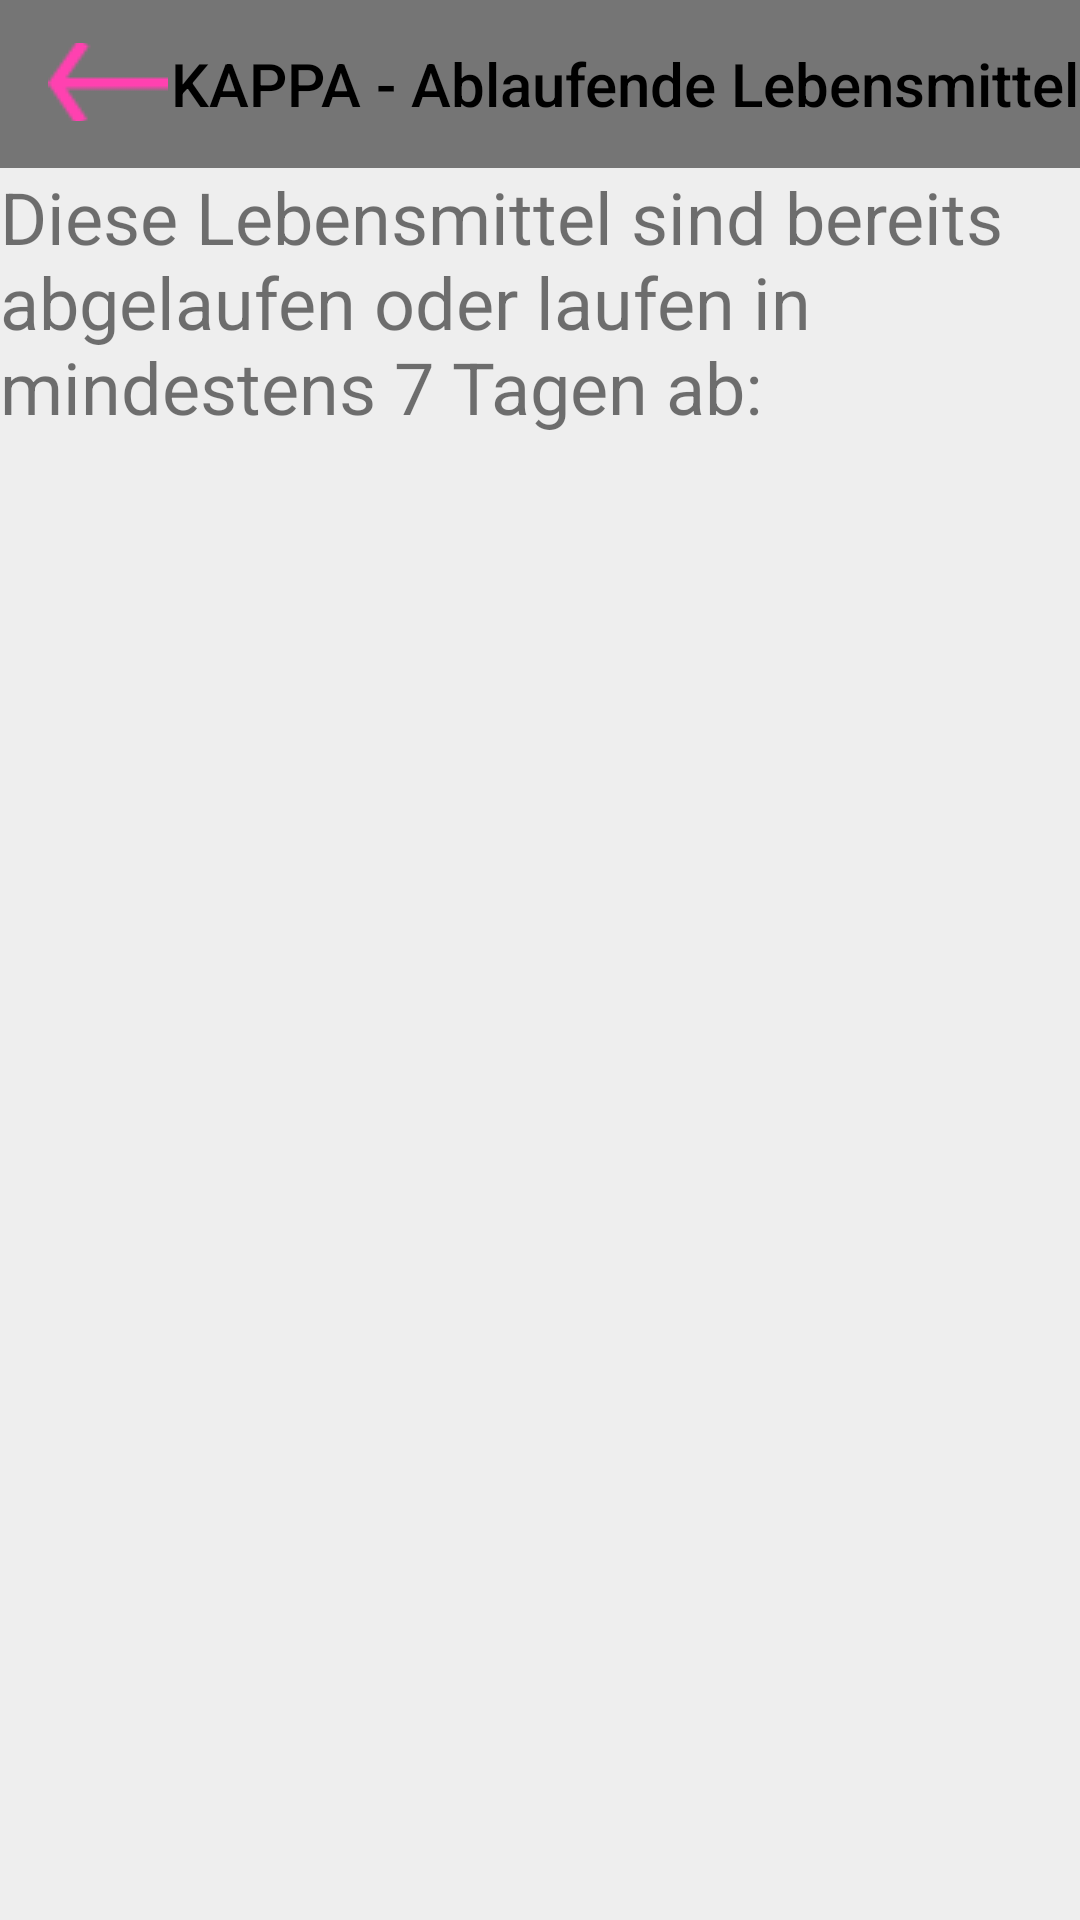

Screen size 1080x1920. Icon name, then its center in pixels as (x=x, y=y):
back: (x=108, y=82)
